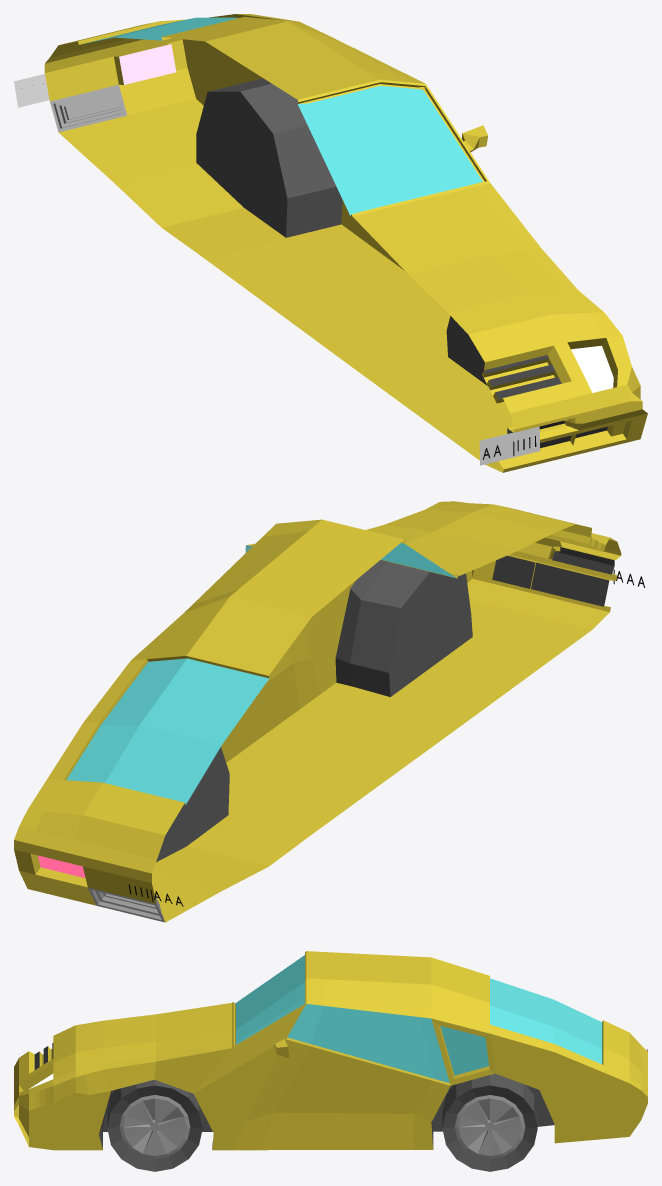
Rendered from car2.glb.
3 views of the same model, one above another, from view 1: azimuth 30°, elevation 25°; view 2: azimuth 150°, elevation 25°; view 3: azimuth 270°, elevation 25° (orthographic). The views are drawn at different scales.
Visible parts, largest first — view 1: Cube, Plane.001, Plane; view 2: Cube; view 3: Cube.
Boxes of the visible parts, left/top/right/bottom form: Cube: left=44, top=14, right=647, bottom=472; Plane.001: left=479, top=426, right=540, bottom=465; Plane: left=14, top=74, right=49, bottom=107; Cube: left=14, top=501, right=621, bottom=922; Cube: left=14, top=951, right=647, bottom=1171.
Bounding box in the file's own units: 1.34 × 1.64 × 5.37.
